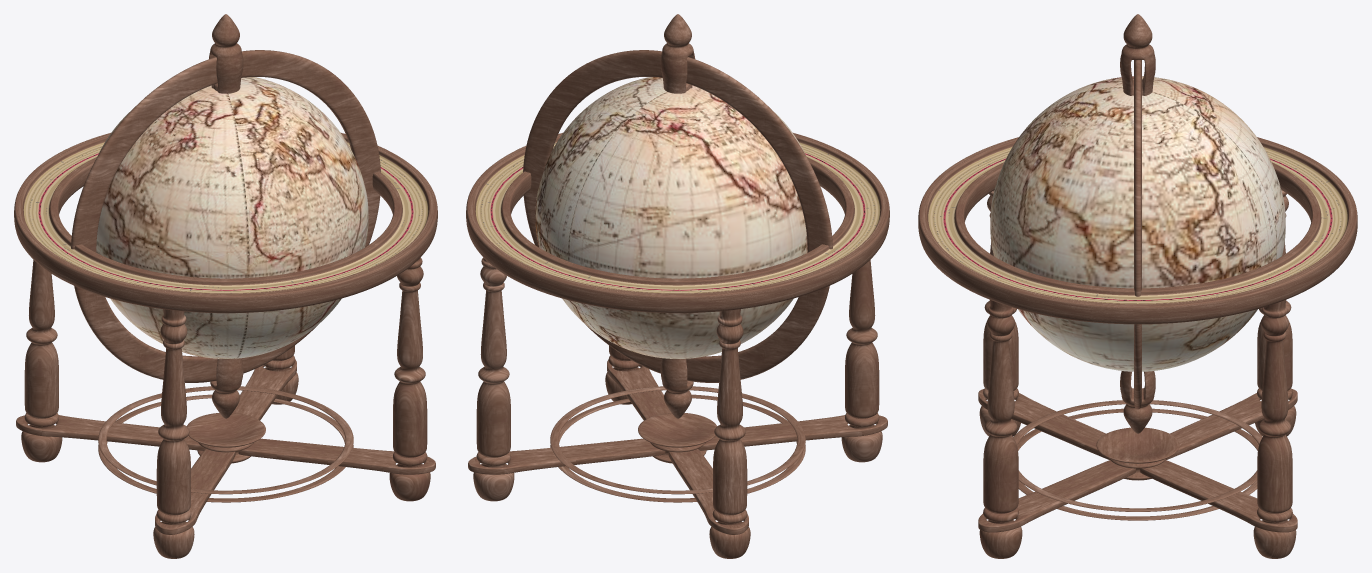
Rendered from obj_simplistic_globe_f235ef.glb.
The picture shows the model from 3 angles, left to right: view 1: azimuth 30°, elevation 25°; view 2: azimuth 150°, elevation 25°; view 3: azimuth 270°, elevation 25°; orthographic projection. The views are drawn at different scales.
Parts seen in each view (by area): view 1: obj_simplistic_globe_f235ef; view 2: obj_simplistic_globe_f235ef; view 3: obj_simplistic_globe_f235ef.
Boxes of the visible parts, <box> form: obj_simplistic_globe_f235ef: <box>14,14,437,558</box>; obj_simplistic_globe_f235ef: <box>466,14,889,558</box>; obj_simplistic_globe_f235ef: <box>918,14,1357,558</box>.
Bounding box in the file's own units: 0.3736 × 0.45 × 0.3736.
3 materials, 3 textured.
